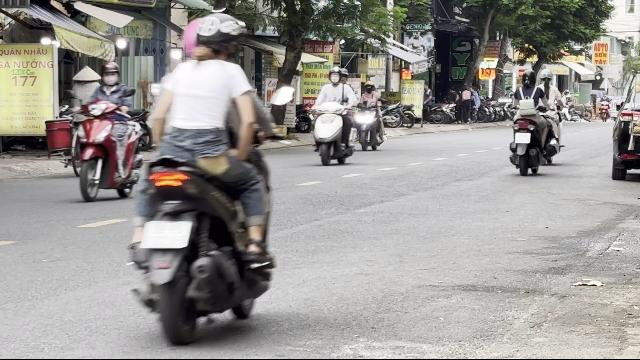helmet: (192, 10, 248, 60), (100, 62, 120, 86), (536, 68, 552, 84), (328, 66, 342, 84), (520, 68, 534, 86), (338, 66, 348, 82)
licenseplate: (140, 222, 192, 248), (514, 132, 530, 144)
motorcyclist: (124, 12, 280, 342), (66, 61, 146, 203), (506, 68, 562, 175), (309, 65, 357, 165)
